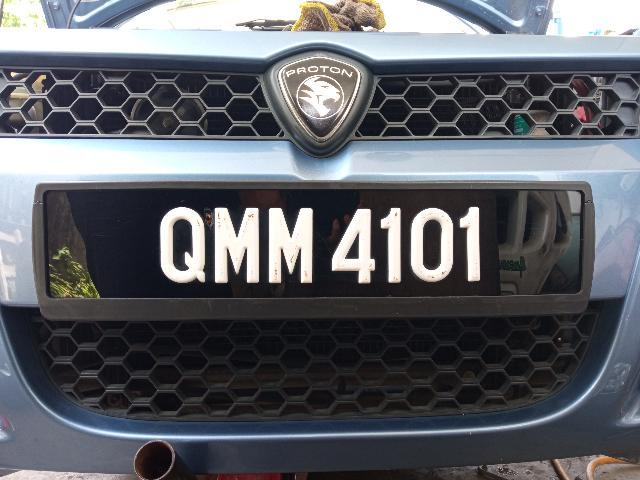License_Plate: (43, 189, 587, 302)
